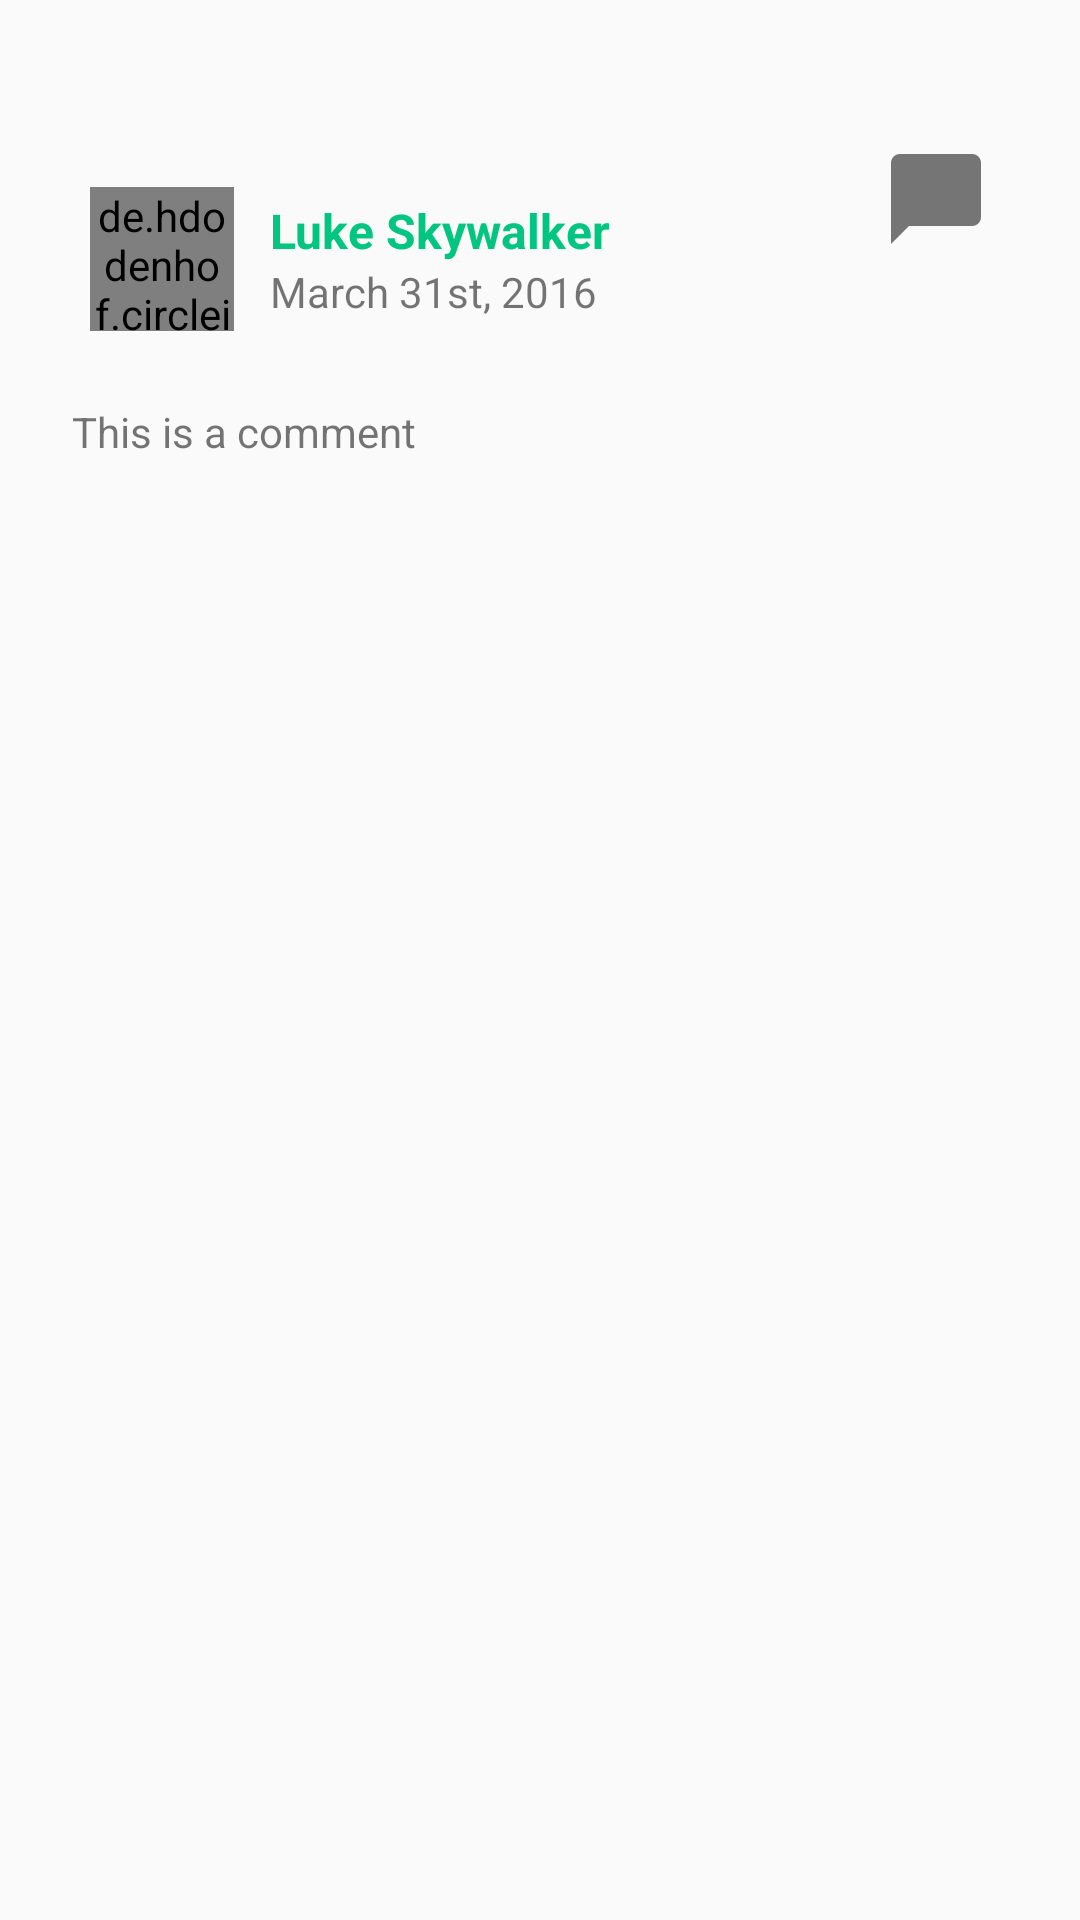

Locate icon controls on the screen. Image size 1080w x 1920h, boxes as bbox=(x1, y1, x2, y2).
chat bubble: bbox=(891, 154, 981, 244)
